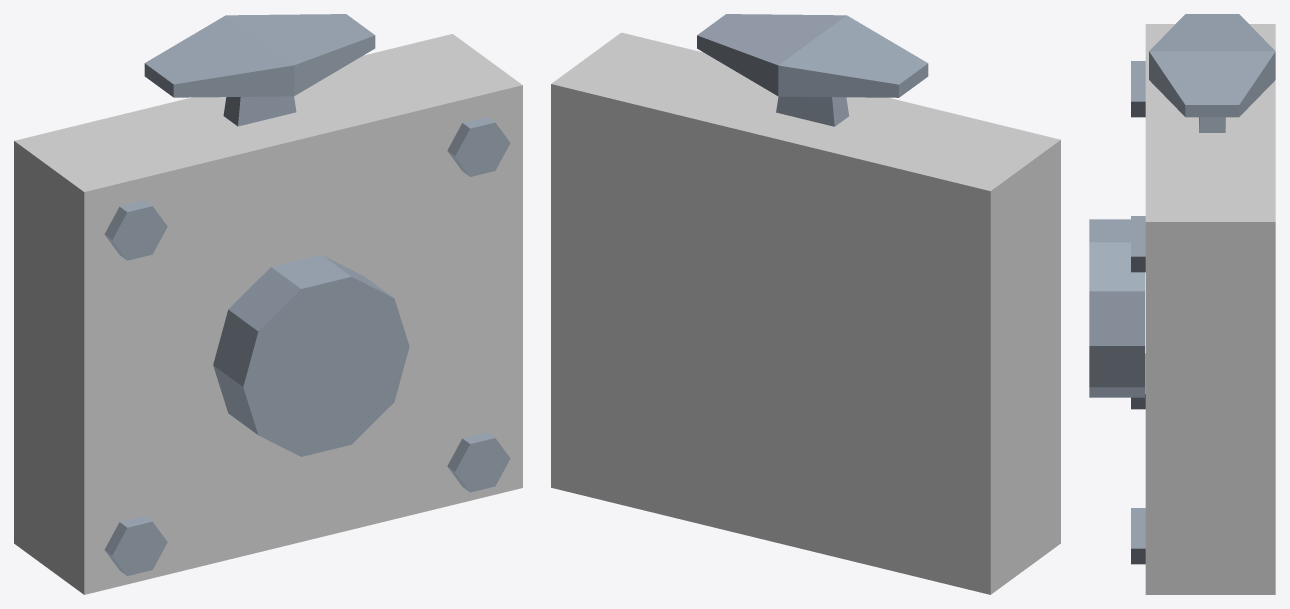
File: 油色谱油阀.obj
The picture shows the model from 3 angles, left to right: view 1: azimuth 30°, elevation 25°; view 2: azimuth 150°, elevation 25°; view 3: azimuth 270°, elevation 25°; orthographic projection. The views are drawn at different scales.
Parts seen in each view (by area): view 1: Box2134, Cylinder189, Box2138, Cylinder190, Cylinder191, Cylinder193, Cylinder192, Box2139; view 2: Box2134, Box2138, Box2139; view 3: Box2134, Box2138, Cylinder189, Cylinder190, Cylinder191, Cylinder192, Box2139.
Part boxes in pixels (<box>): Box2134: <box>14,34,522,594</box>; Cylinder189: <box>213,254,409,456</box>; Box2138: <box>144,14,375,97</box>; Cylinder190: <box>104,200,167,260</box>; Cylinder191: <box>447,116,510,176</box>; Cylinder193: <box>104,516,167,575</box>; Cylinder192: <box>447,432,510,492</box>; Box2139: <box>223,96,296,126</box>; Box2134: <box>551,32,1060,594</box>; Box2138: <box>697,14,928,97</box>; Box2139: <box>776,96,848,126</box>; Box2134: <box>1145,24,1275,594</box>; Box2138: <box>1149,14,1275,117</box>; Cylinder189: <box>1089,219,1144,397</box>; Cylinder190: <box>1131,61,1145,117</box>; Cylinder191: <box>1131,216,1145,272</box>; Cylinder192: <box>1131,508,1145,564</box>; Box2139: <box>1199,117,1225,132</box>.
Size of the model in its own units: 21.75 by 22.59 by 8.64.
